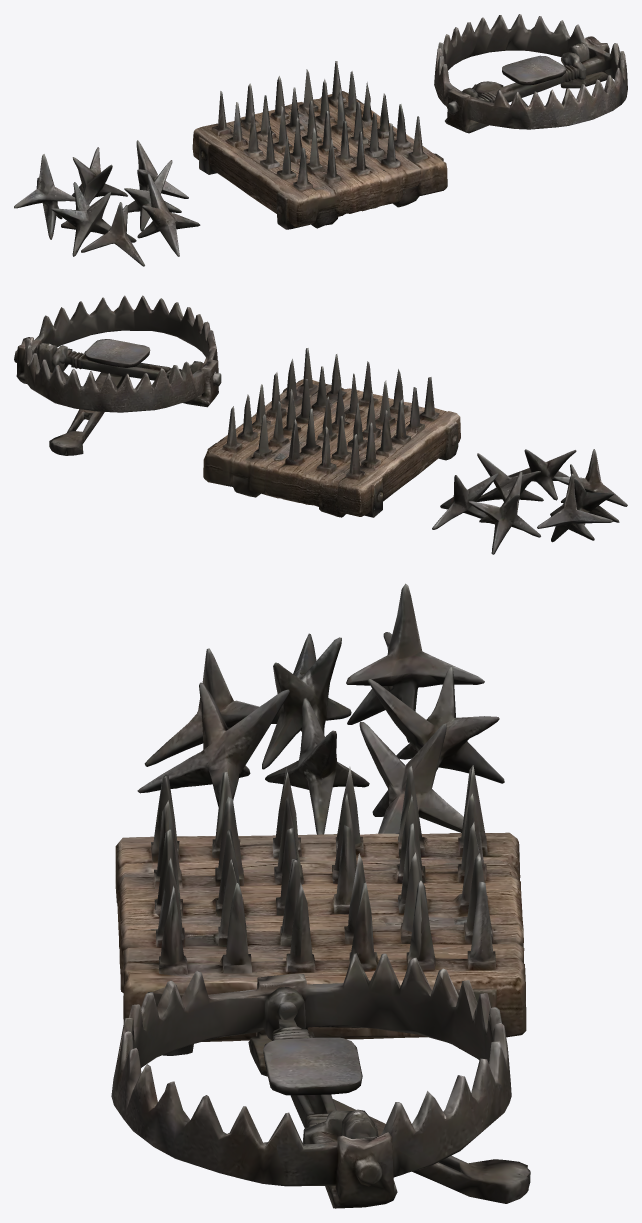
File: traps_floor2.glb
The picture shows the model from 3 angles, top to bottom: view 1: azimuth 30°, elevation 25°; view 2: azimuth 150°, elevation 25°; view 3: azimuth 270°, elevation 25°; orthographic projection. The views are drawn at different scales.
Parts seen in each view (by area): view 1: spiked_board, bear_trap, caltrops; view 2: spiked_board, bear_trap, caltrops; view 3: spiked_board, bear_trap, caltrops.
Boxes of the visible parts, x1,y1,x2,y2 form: spiked_board: (192,61,447,229); bear_trap: (434,14,627,133); caltrops: (14,140,200,266); spiked_board: (203,348,460,517); bear_trap: (14,295,221,455); caltrops: (432,449,627,554); spiked_board: (115,765,526,1055); bear_trap: (111,953,530,1208); caltrops: (137,583,504,834).
Size of the model in its own units: 1.02 by 0.1343 by 0.3144.
1 material, 1 textured.
